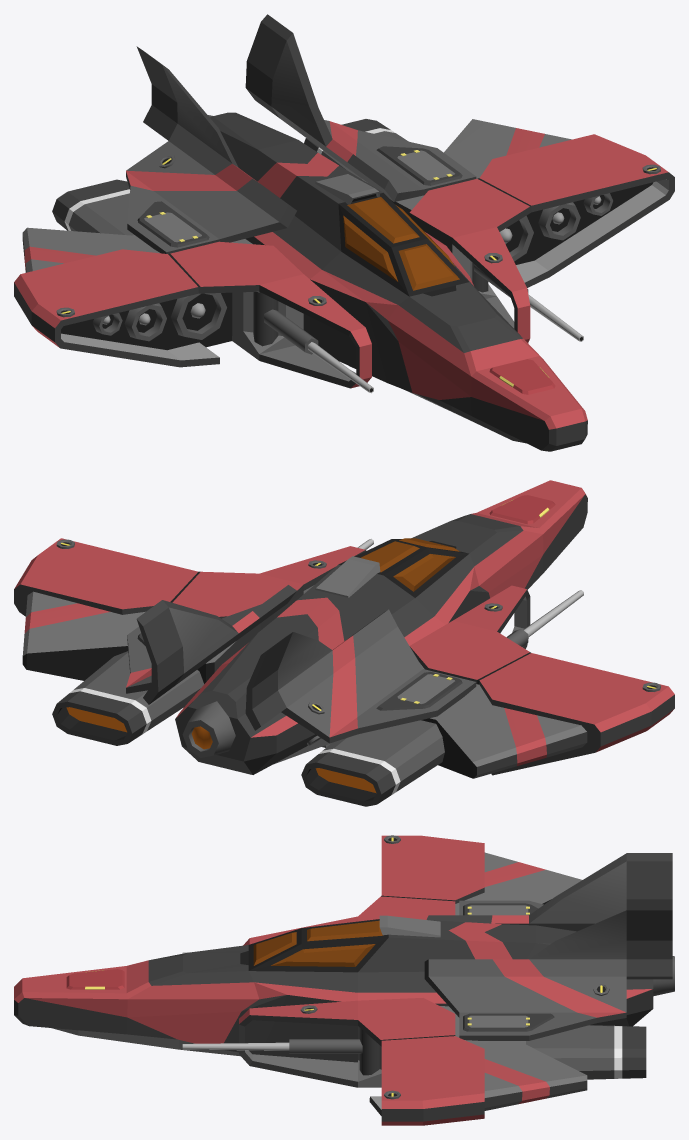
File: starship_001.fbx
The picture shows the model from 3 angles, top to bottom: view 1: azimuth 30°, elevation 25°; view 2: azimuth 150°, elevation 25°; view 3: azimuth 270°, elevation 25°; orthographic projection. The views are drawn at different scales.
Parts seen in each view (by area): view 1: starship_001; view 2: starship_001; view 3: starship_001.
Boxes of the visible parts, x1,y1,x2,y2 form: starship_001: [14, 14, 674, 451]; starship_001: [14, 480, 674, 806]; starship_001: [14, 835, 674, 1125].
Bounding box in the file's own units: 1395 × 1442 × 396.
